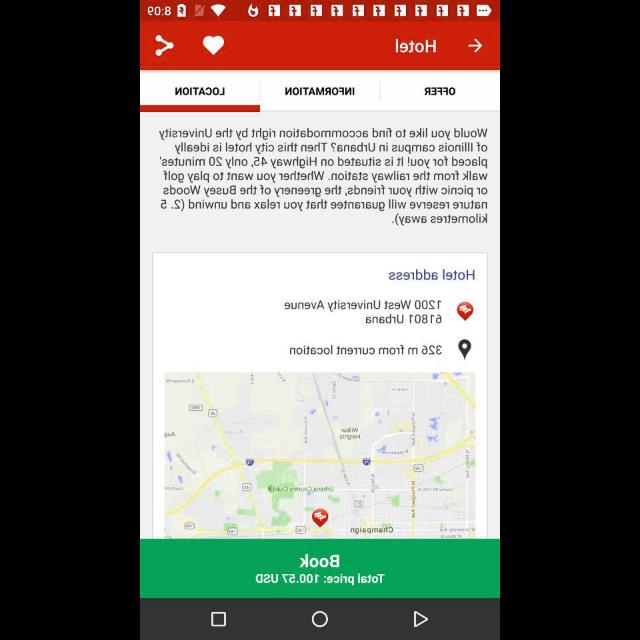icon: (154, 32, 176, 58), (454, 299, 474, 327), (202, 36, 224, 56), (458, 338, 472, 362), (412, 610, 430, 628), (210, 610, 227, 628), (312, 609, 328, 627), (466, 36, 482, 54)
map: (161, 372, 475, 538)
multitab: (140, 76, 500, 112)
panel: (141, 540, 499, 596), (144, 22, 498, 66), (141, 602, 497, 638)
text: (153, 126, 491, 228), (282, 296, 444, 324), (286, 344, 444, 358), (382, 265, 476, 283), (254, 573, 386, 583), (391, 34, 439, 56), (296, 554, 342, 570)
uppertaskbar: (141, 1, 497, 19)
